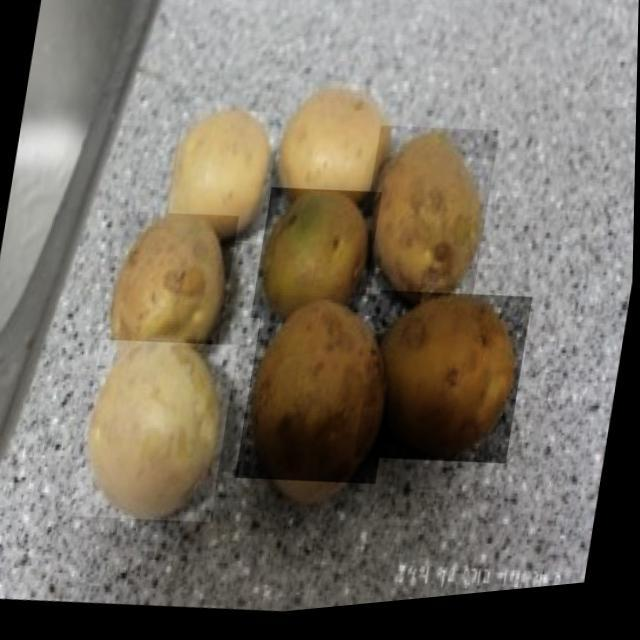Potato: (237, 284, 408, 503), (356, 286, 534, 486), (74, 331, 240, 537), (355, 125, 501, 322), (104, 206, 240, 386), (267, 78, 401, 232), (252, 185, 384, 339), (164, 105, 284, 257)
